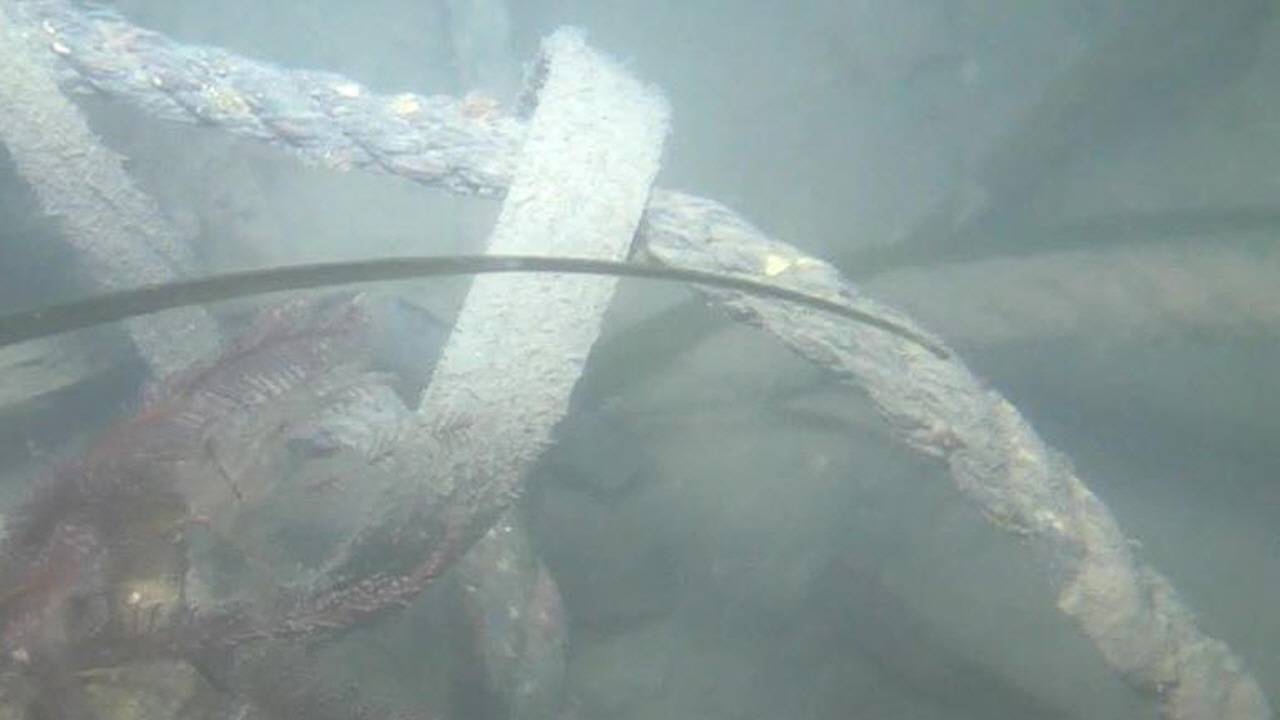rope: (0, 0, 1276, 720)
